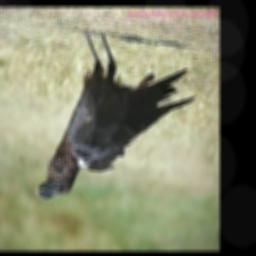Crow: (35, 31, 196, 200)
